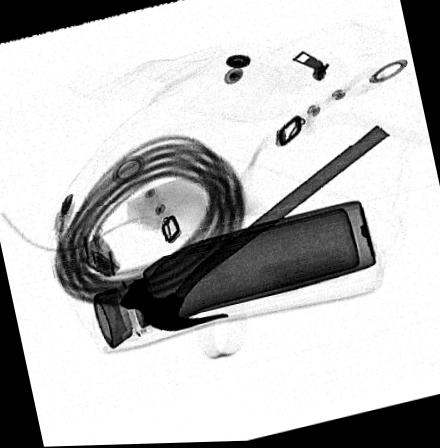Hammer: (116, 125, 389, 331)
